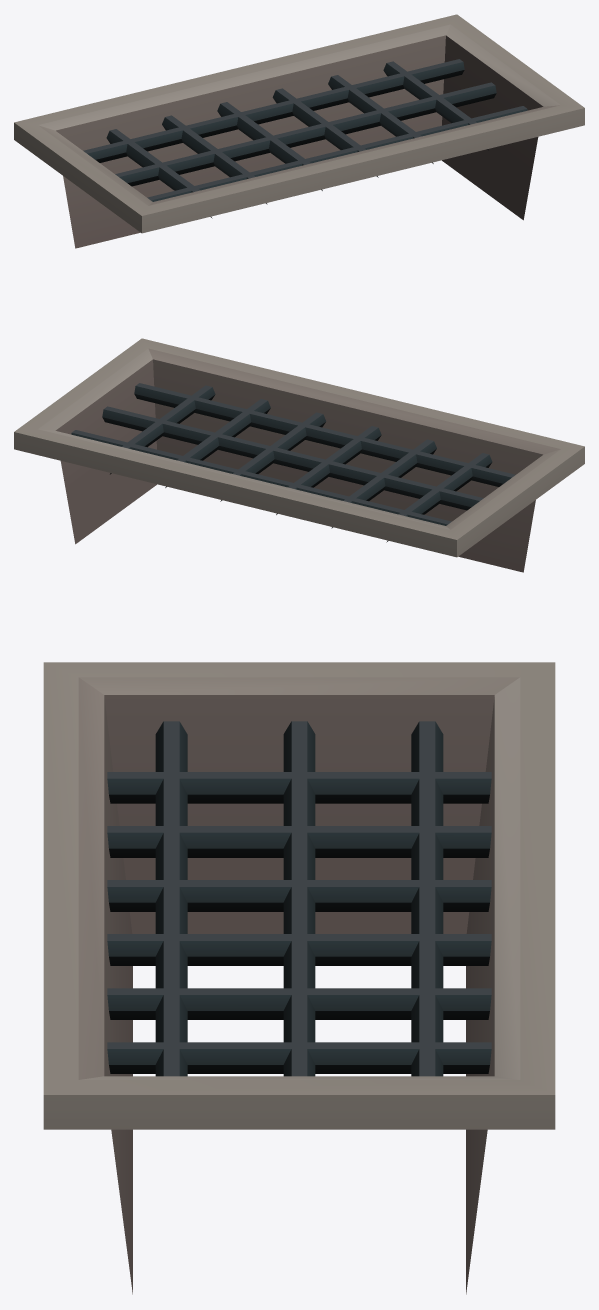
File: floor_tile_grate_open.gltf
3 renders of one model, top to bottom at view 1: azimuth 30°, elevation 25°; view 2: azimuth 150°, elevation 25°; view 3: azimuth 270°, elevation 25°, orthographic. The views are drawn at different scales.
Parts seen in each view (by area): view 1: floor_tile_grate_open; view 2: floor_tile_grate_open; view 3: floor_tile_grate_open.
Boxes of the visible parts, <box> form: floor_tile_grate_open: <box>14,14,584,248</box>; floor_tile_grate_open: <box>14,338,584,572</box>; floor_tile_grate_open: <box>43,662,555,1294</box>.
Size of the model in its own units: 4 by 1.03 by 2.
1 material, 1 textured.
